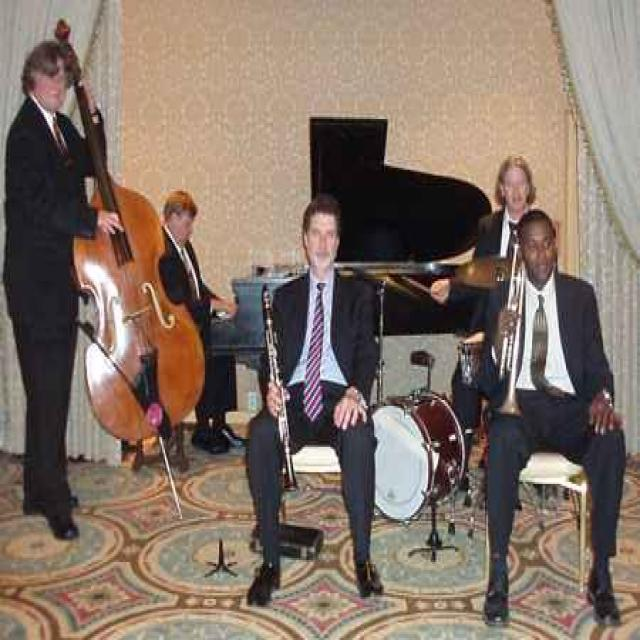clarinet: (259, 285, 302, 494)
drums: (353, 238, 522, 562)
